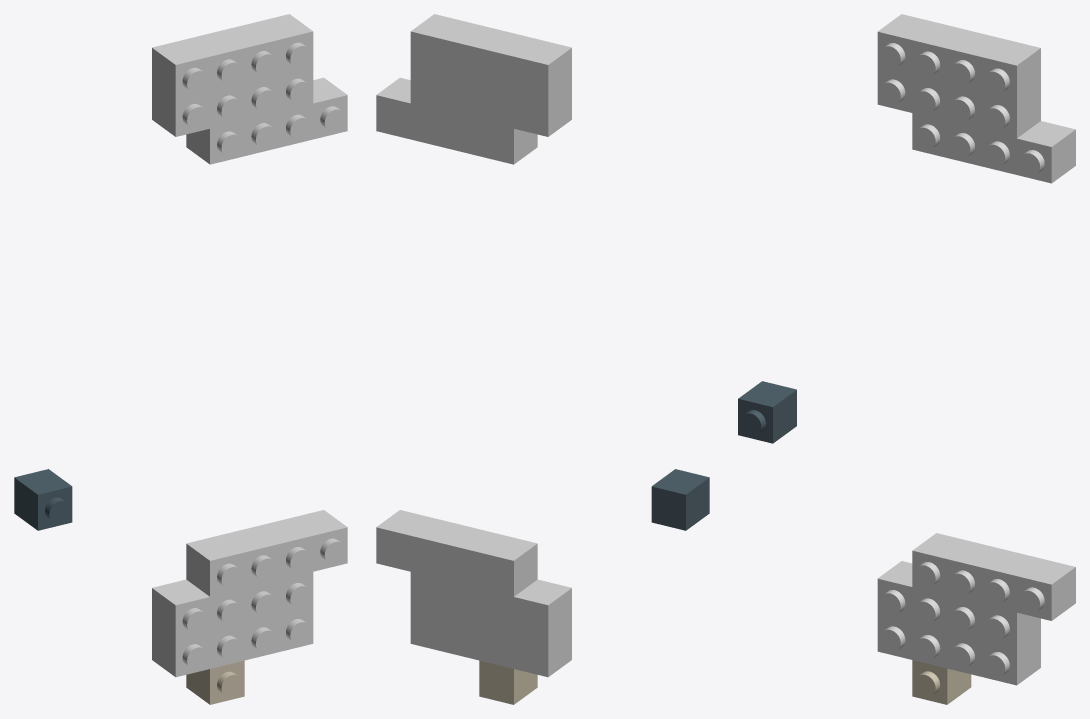
File: current.glb
3 views of the same model, side by side, from view 1: azimuth 30°, elevation 25°; view 2: azimuth 150°, elevation 25°; view 3: azimuth 330°, elevation 25° (orthographic).
Visible parts, largest first — view 1: world; view 2: world; view 3: world.
Boxes of the visible parts, left/top/right/bottom form: world: left=14, top=14, right=347, bottom=704; world: left=376, top=14, right=709, bottom=704; world: left=738, top=14, right=1075, bottom=704.
Bounding box in the file's own units: 72 × 144 × 11.4.
